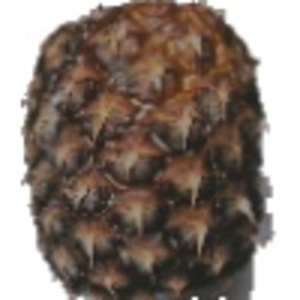abacaxi: (16, 4, 273, 288)
